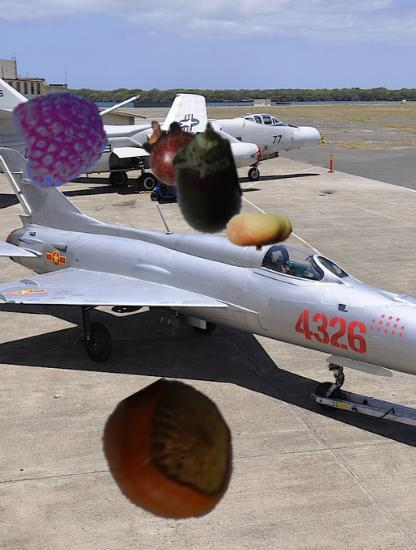Eggplant: (149, 121, 264, 236)
Mangostan: (136, 115, 209, 188)
Nut: (101, 383, 242, 524)
Peach: (226, 199, 292, 265)
Raspberry: (14, 89, 110, 185)
